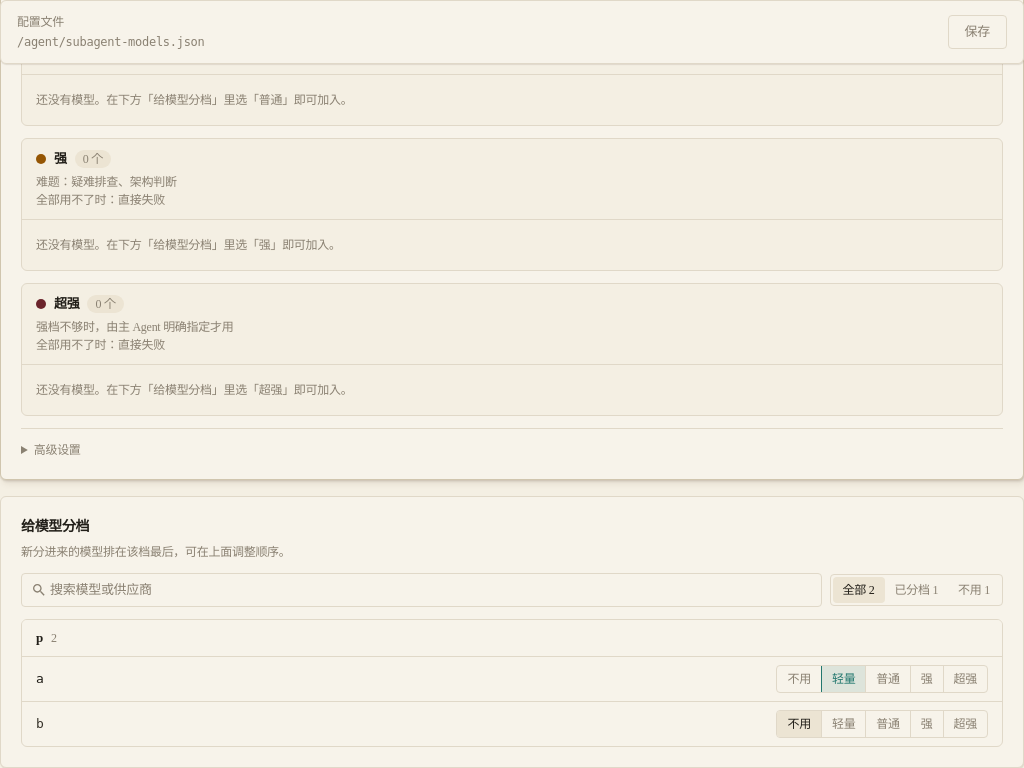
Test: SubagentModelsTab › shows a conflict message with a reload button on 409
(page scrolled)
Expected: the text "/agent/subagent-models.json" is shown, [17,35,204,49]
Click the 2nd radio button "强" at (926, 724), box [910,711,942,737]
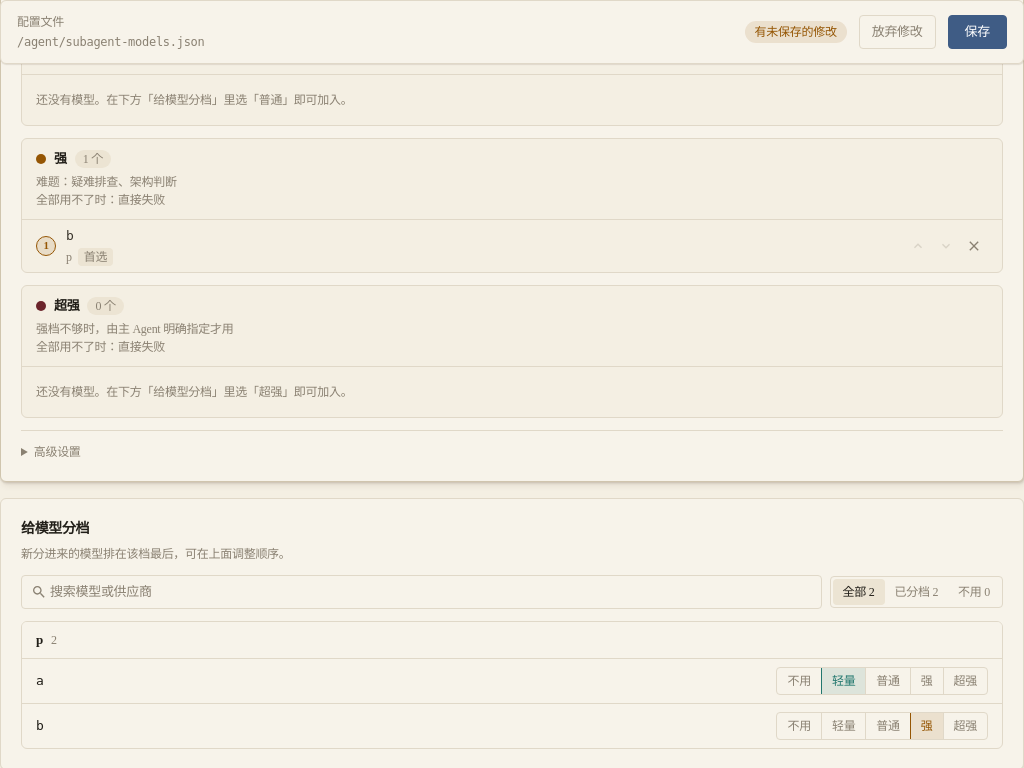
Click the button "保存" at (977, 32), box [948,15,1007,49]
(page scrolled)
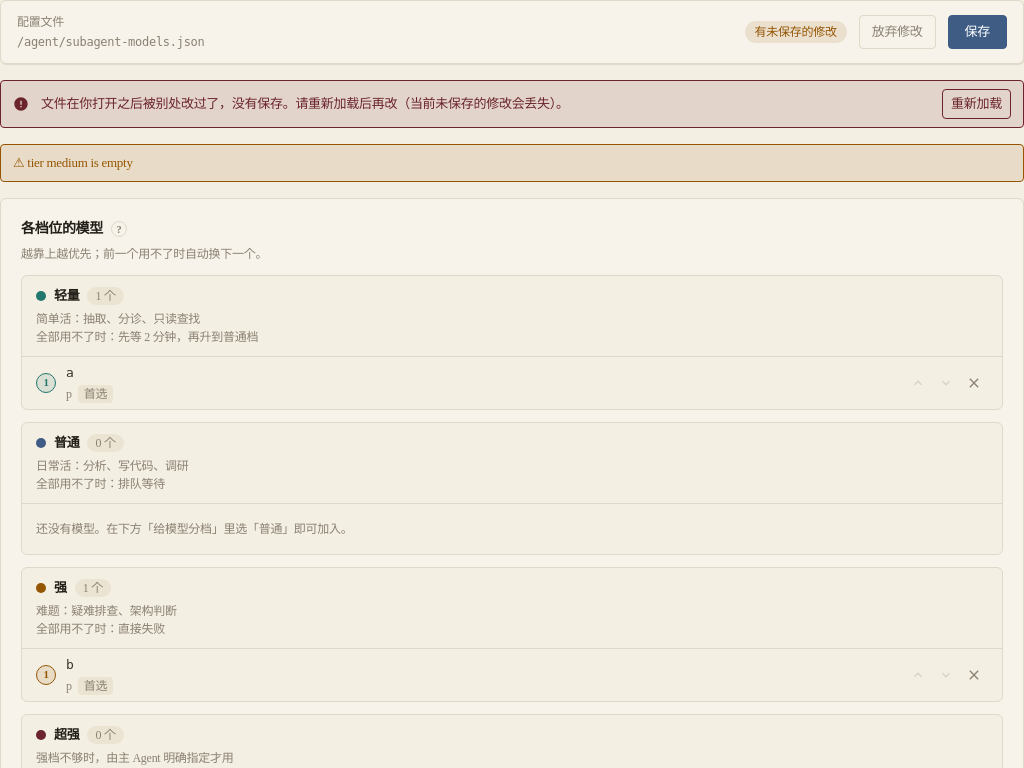
Expected: the text "文件在你打开之后被别处改过了，没有保存。请重新加载后再改（当前未保存的修改会丢失）。" is shown, [41,96,569,111]
Expected: the button "重新加载" is shown, [942,89,1011,119]
